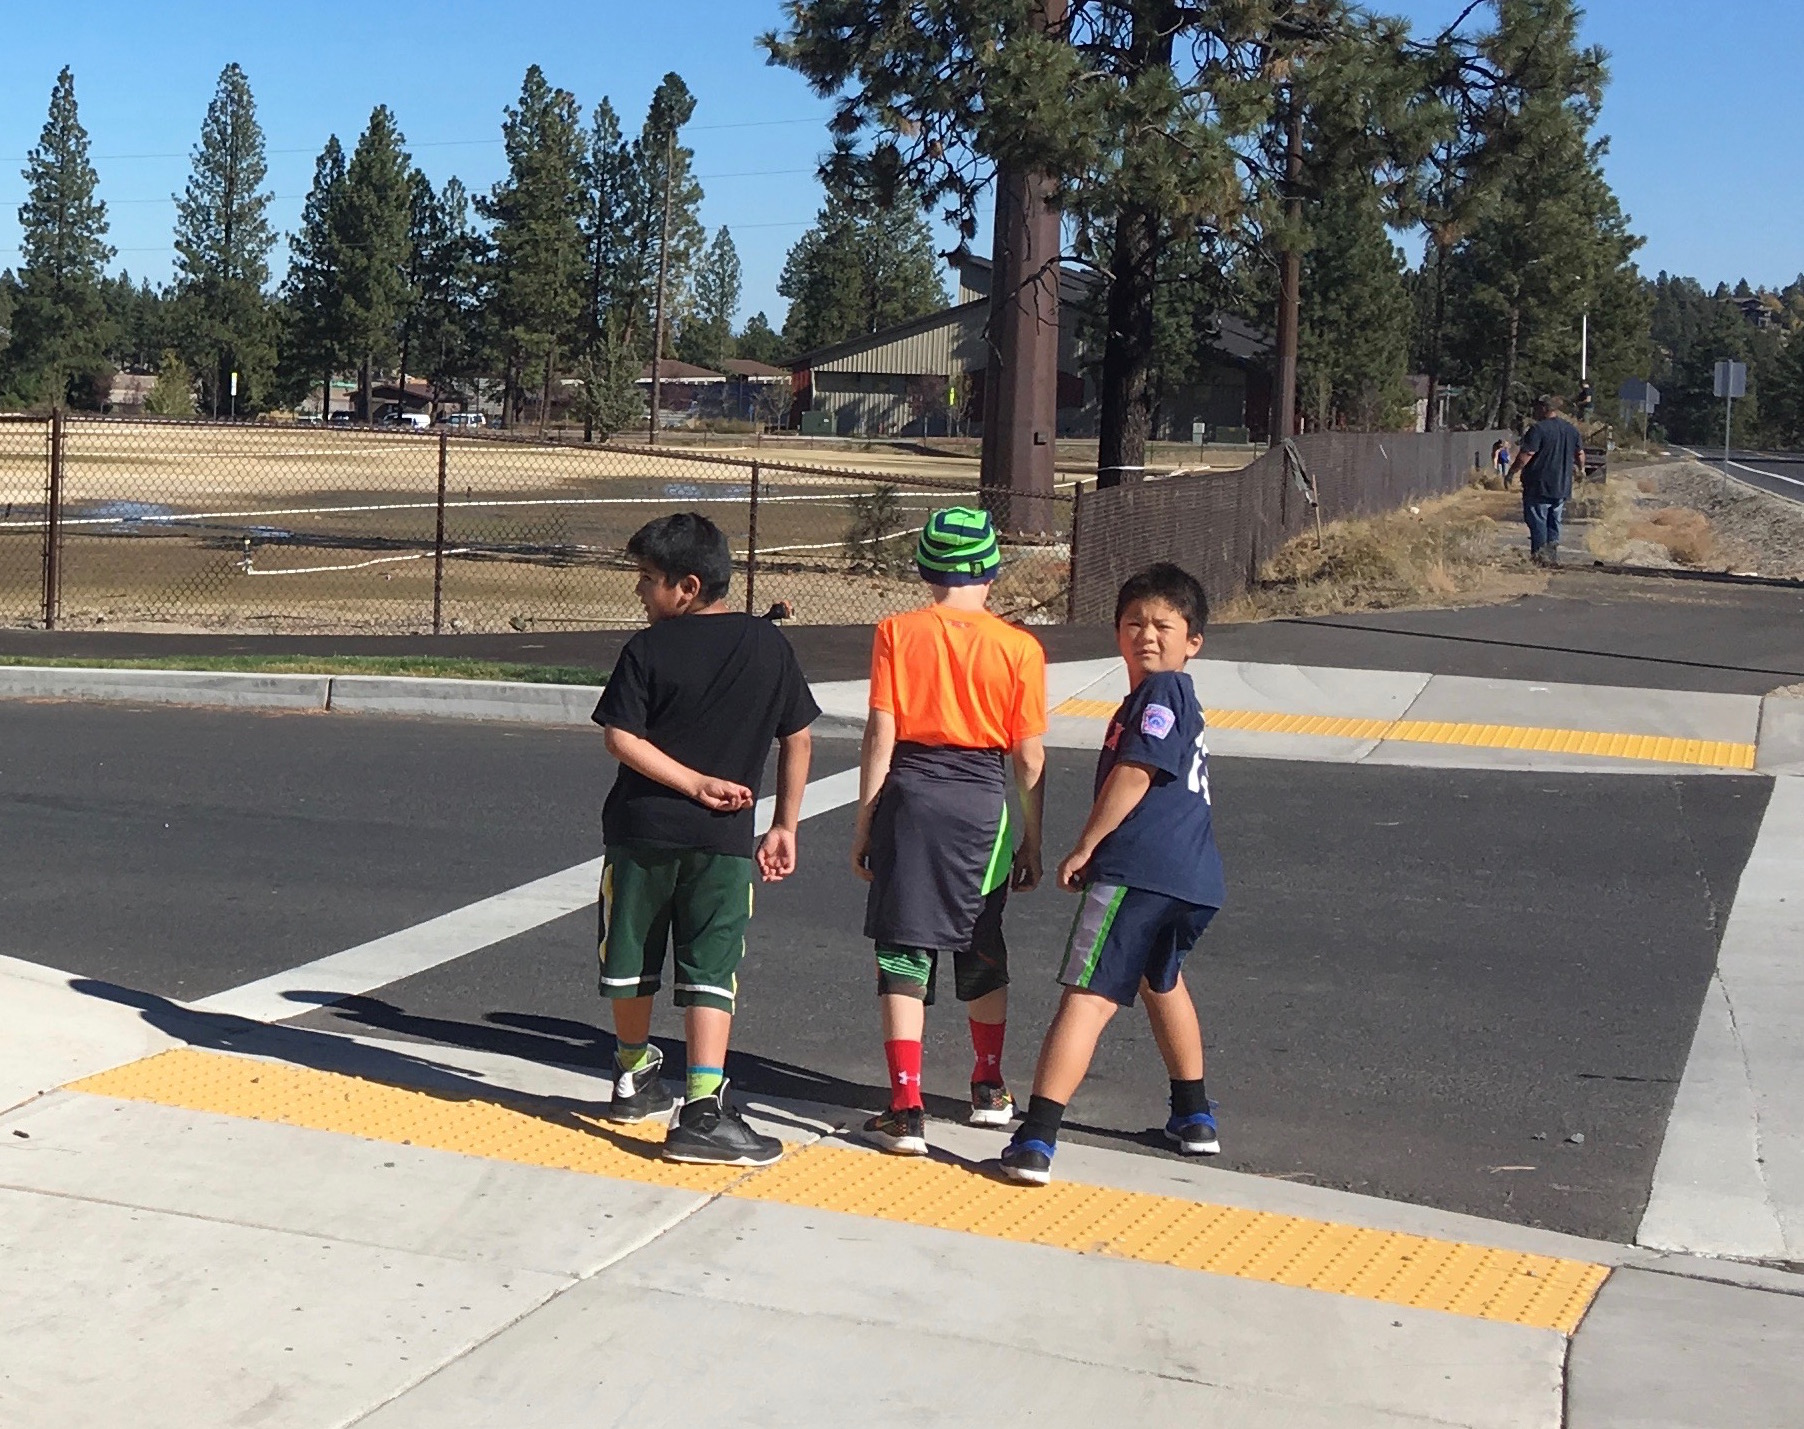person: (998, 558, 1228, 1187), (598, 513, 811, 1171), (850, 501, 1046, 1159)
